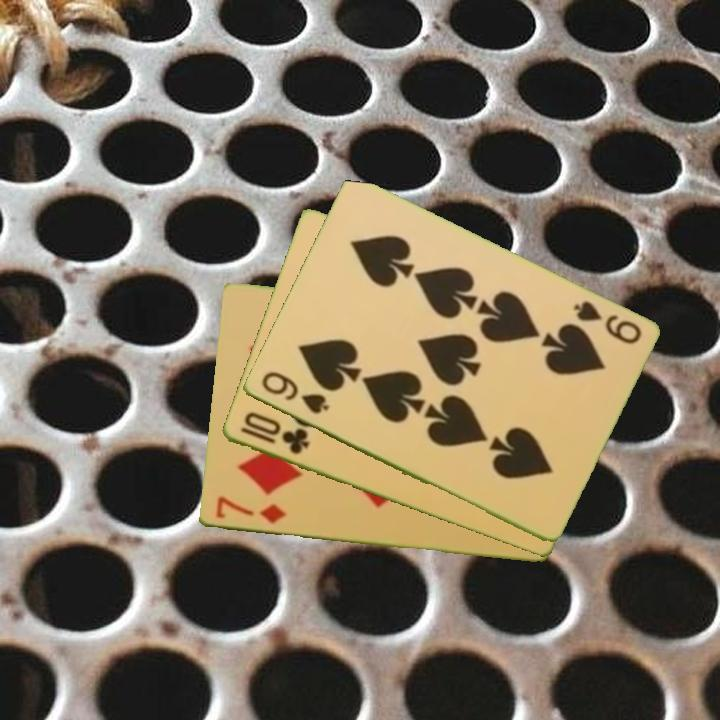10c: (236, 409, 311, 458)
7d: (211, 493, 288, 527)
9s: (569, 297, 644, 348), (257, 368, 331, 418)
